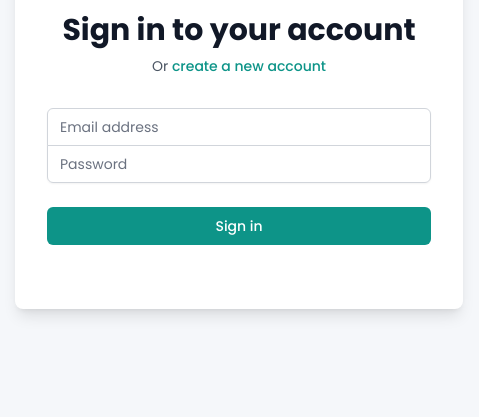
Login Component › shows error message on login failure
Fill and submit the form
Step 1. Type "test@example.com" into the field labelled "Email address" → [239, 127], box [47, 108, 431, 146]
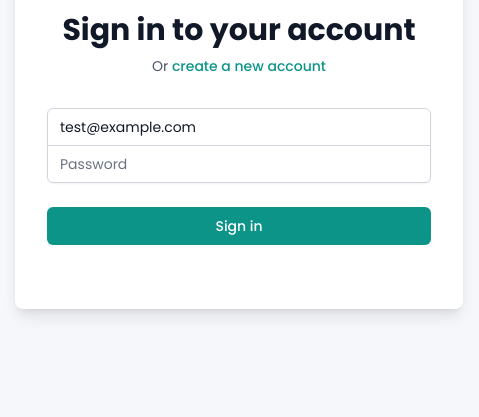
Step 2. Type "wrongpassword" into the password field labelled "Password" → [239, 164], box [47, 145, 431, 183]
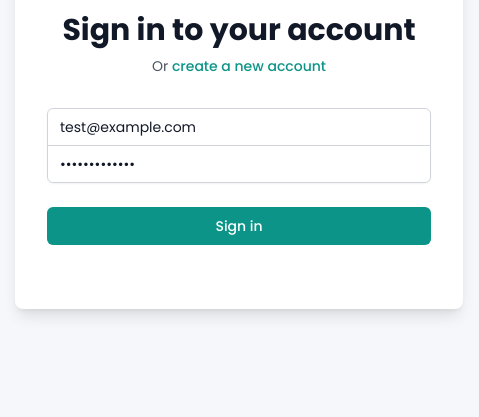
Step 3. Click the button "Sign in" → [239, 226], box [47, 207, 431, 245]
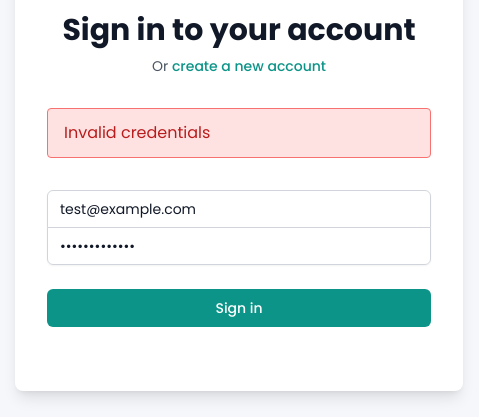
Expected: the text "Invalid credentials" is shown, [64, 121, 210, 144]
